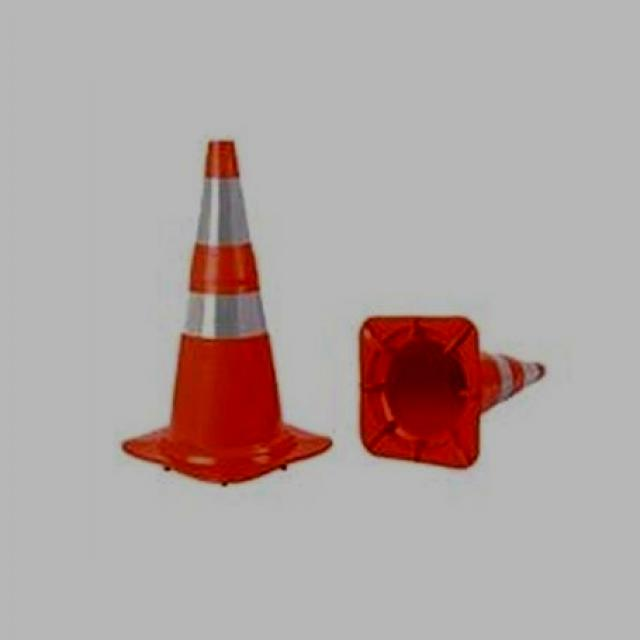cone: (122, 126, 326, 474), (354, 303, 574, 483)
